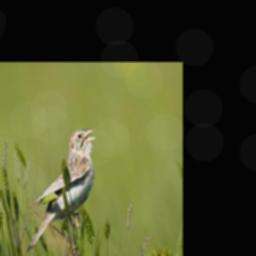Sparrow: (27, 127, 97, 252)
